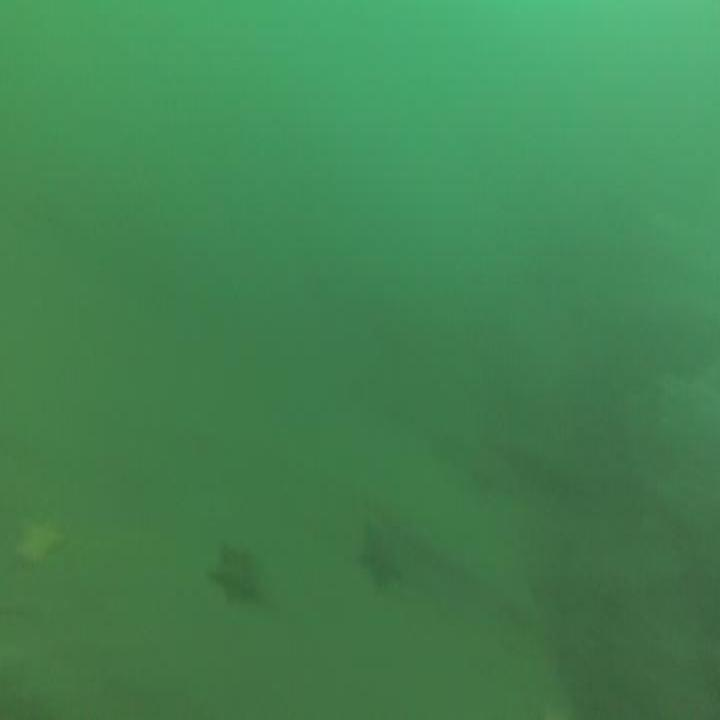starfish: (205, 532, 268, 614), (352, 514, 406, 596), (11, 510, 71, 572)
